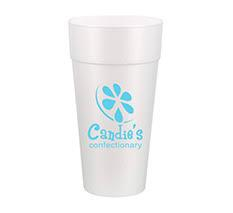Plastic cup: (66, 9, 167, 204)
